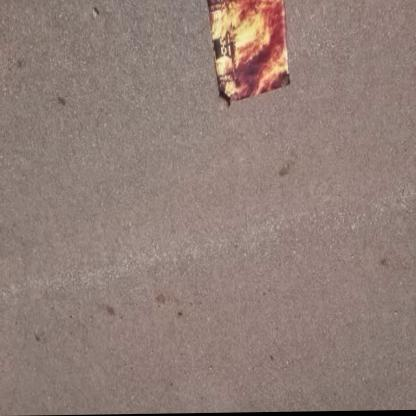fire-poster: (204, 0, 292, 112)
